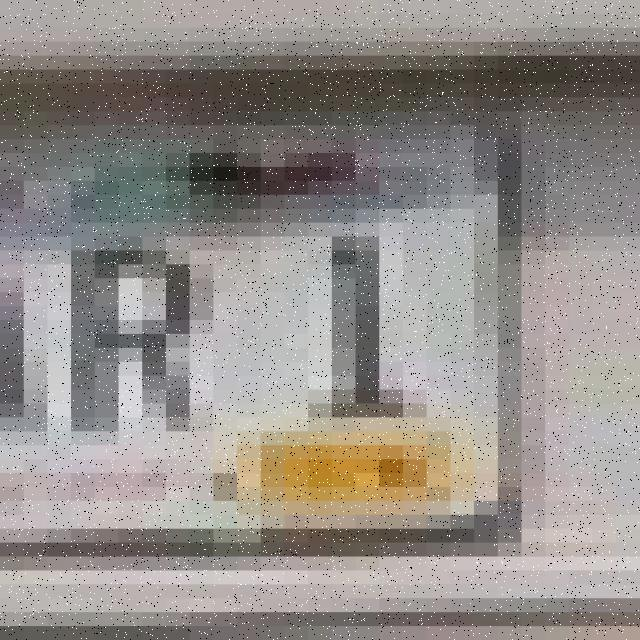licenseplate: (0, 57, 609, 612)
